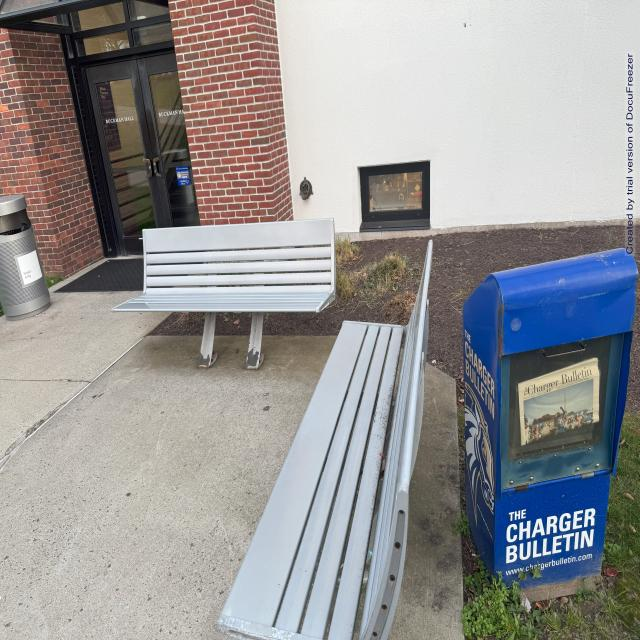chair: (218, 233, 454, 640), (103, 207, 337, 379)
